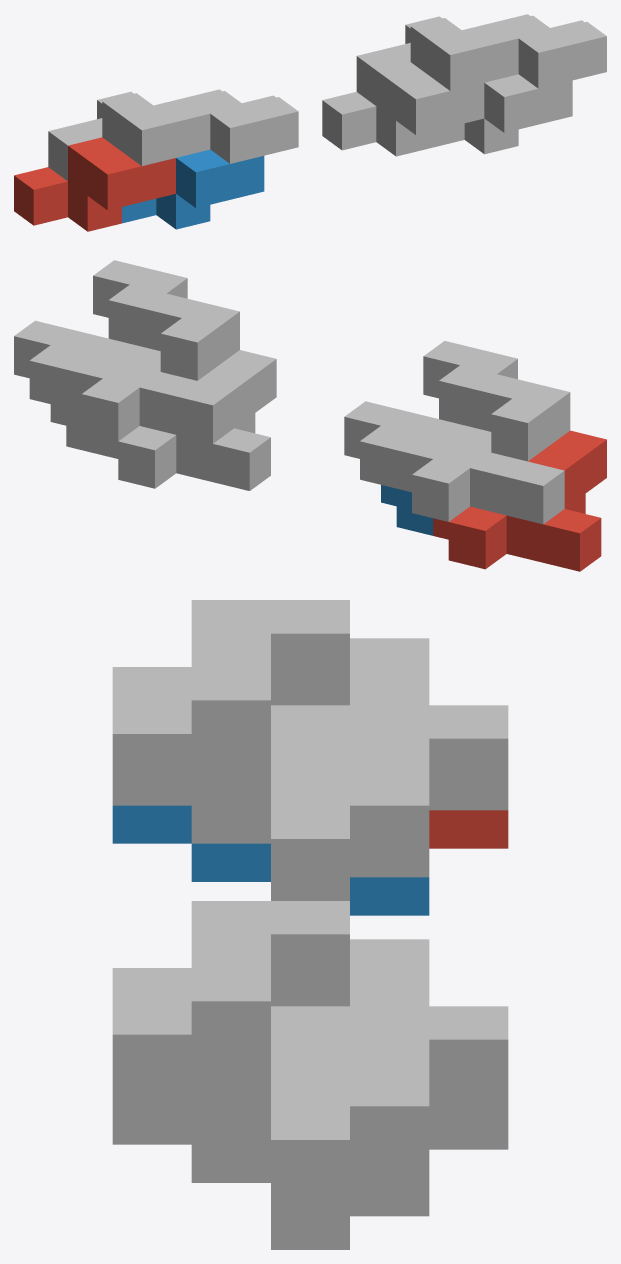
Rendered from tiling.obj.
3 renders of one model, top to bottom at view 1: azimuth 30°, elevation 25°; view 2: azimuth 150°, elevation 25°; view 3: azimuth 270°, elevation 25°, orthographic. The views are drawn at different scales.
Visible parts, largest first — view 1: copy_1_domain_5, copy_1_domain_1, copy_1_domain_7, copy_1_domain_3, copy_1_domain_2, copy_1_domain_6, copy_1_domain_4, copy_1_domain_8; view 2: copy_1_domain_3, copy_1_domain_7, copy_1_domain_1, copy_1_domain_5, copy_1_domain_8, copy_1_domain_4, copy_1_domain_6, copy_1_domain_2; view 3: copy_1_domain_8, copy_1_domain_4, copy_1_domain_3, copy_1_domain_7, copy_1_domain_6, copy_1_domain_2, copy_1_domain_1, copy_1_domain_5.
Part boxes in pixels (left/top/right/bottom): copy_1_domain_5: left=322, top=62, right=484, bottom=156; copy_1_domain_1: left=14, top=137, right=175, bottom=231; copy_1_domain_7: left=356, top=16, right=518, bottom=105; copy_1_domain_3: left=48, top=91, right=210, bottom=180; copy_1_domain_2: left=122, top=149, right=264, bottom=229; copy_1_domain_6: left=430, top=74, right=572, bottom=154; copy_1_domain_4: left=185, top=89, right=298, bottom=163; copy_1_domain_8: left=494, top=14, right=606, bottom=88; copy_1_domain_3: left=396, top=374, right=570, bottom=524; copy_1_domain_7: left=66, top=293, right=239, bottom=443; copy_1_domain_1: left=433, top=430, right=606, bottom=571; copy_1_domain_5: left=103, top=350, right=276, bottom=490; copy_1_domain_8: left=14, top=260, right=187, bottom=407; copy_1_domain_4: left=344, top=341, right=517, bottom=488; copy_1_domain_6: left=50, top=404, right=102, bottom=455; copy_1_domain_2: left=381, top=485, right=433, bottom=535; copy_1_domain_8: left=112, top=968, right=429, bottom=1211; copy_1_domain_4: left=112, top=667, right=429, bottom=900; copy_1_domain_3: left=191, top=600, right=508, bottom=810; copy_1_domain_7: left=191, top=901, right=508, bottom=1111; copy_1_domain_6: left=112, top=1106, right=429, bottom=1249; copy_1_domain_2: left=112, top=805, right=429, bottom=915; copy_1_domain_1: left=429, top=810, right=508, bottom=848; copy_1_domain_5: left=429, top=1111, right=508, bottom=1149.
Size of the model in its own units: 16 by 3 by 5.
